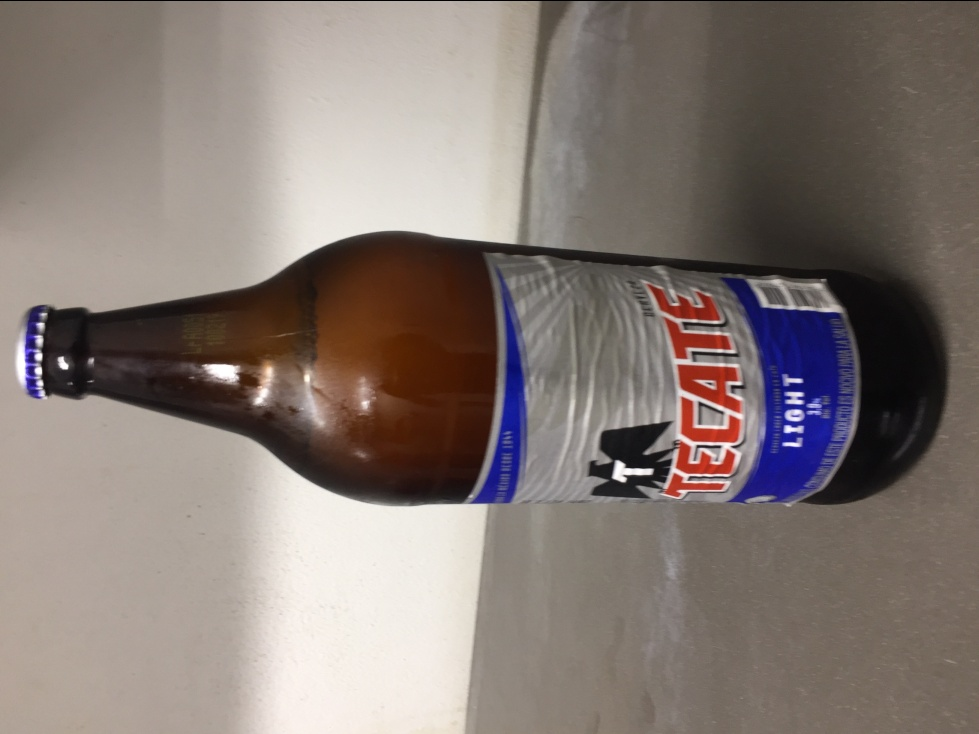tecateC: (14, 232, 942, 516)
